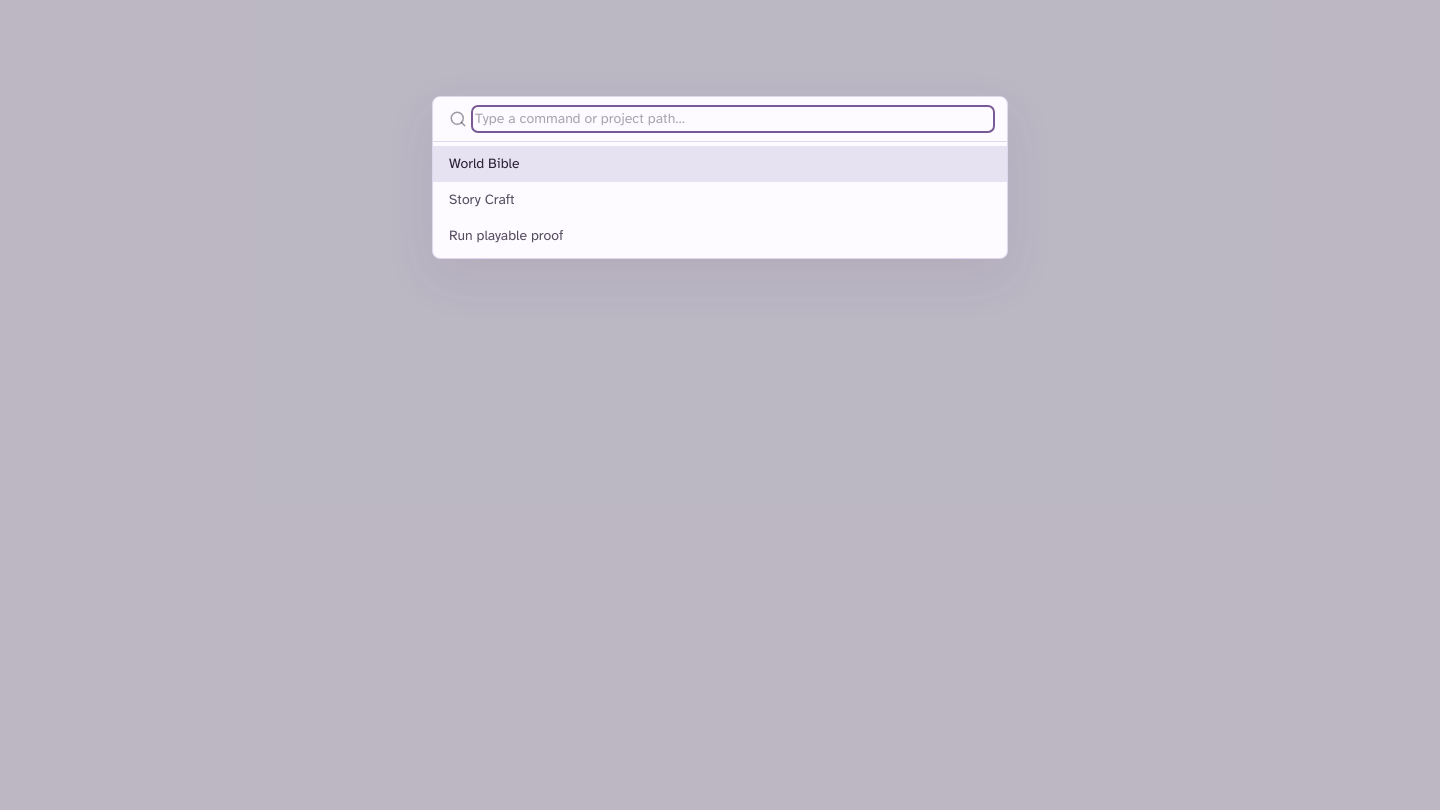
Scenario: StudioCommandPalette › filters actions by the typed query
The width and height of the screenshot is (1440, 810).
Type "story" into the dropdown labelled "Type a command or project path…".
click(733, 119); type("story")  # box [475,109,991,129]
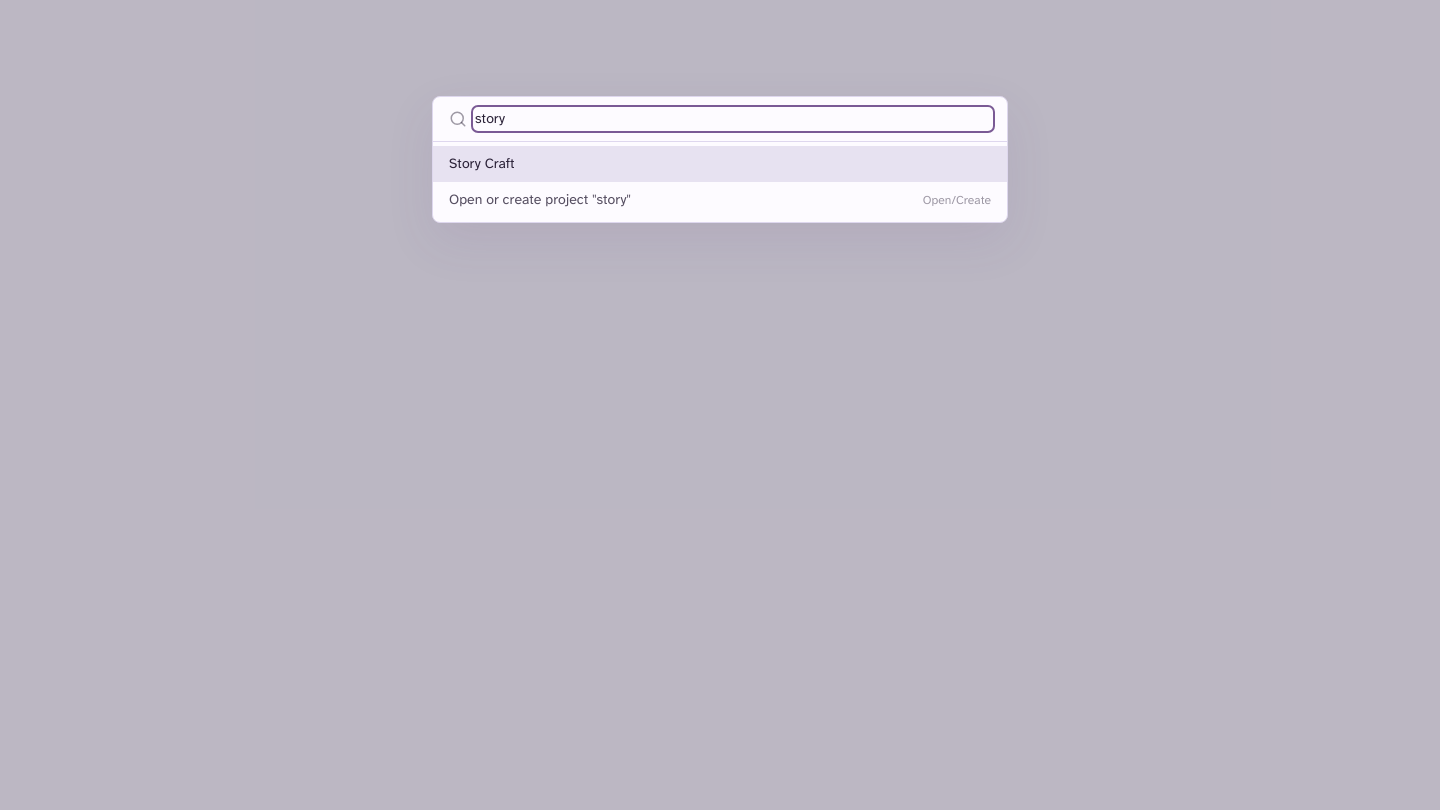
Expected: the text "Story Craft" is shown, [449,154,515,174]
Now the button "World Bible" is gone
